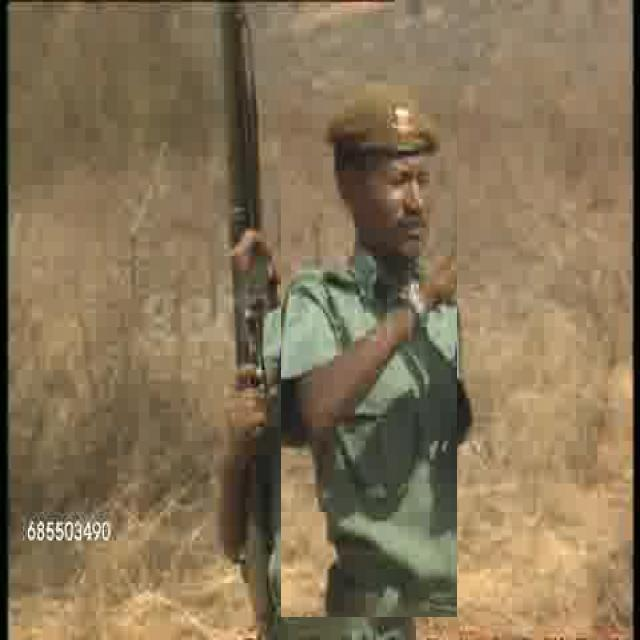poacher: (282, 66, 458, 617)
weapon: (214, 7, 282, 606)
